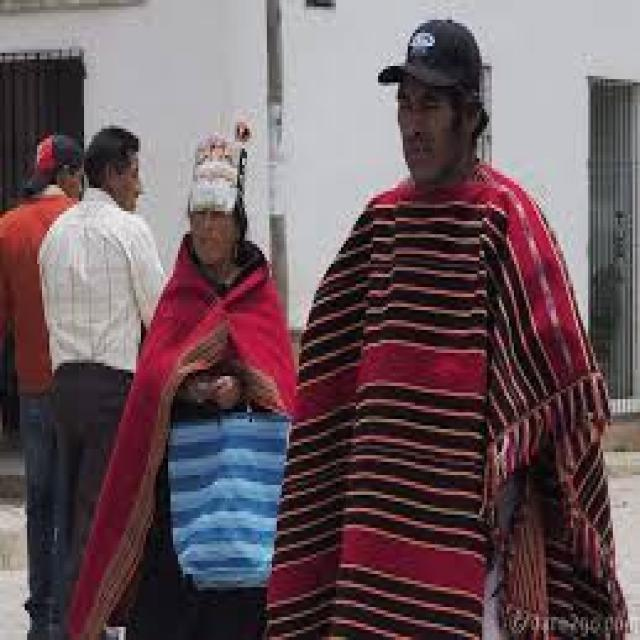3_gorra: (376, 16, 485, 89)
